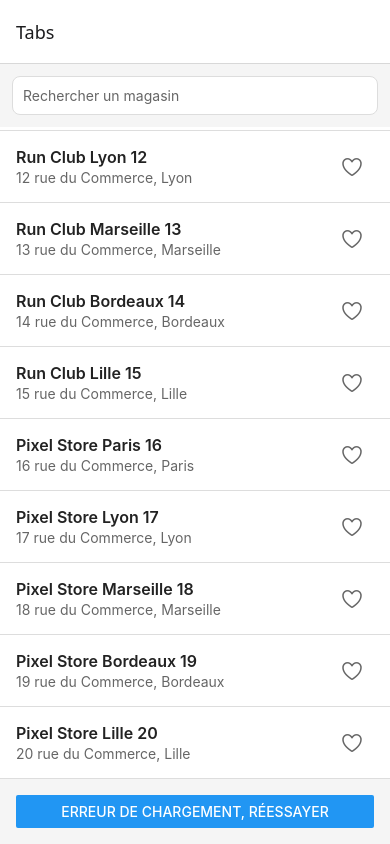
Test: StoreListScreen › propose de réessayer si la page suivante échoue
The image size is (390, 844).
(page scrolled)
Step 1. Click the button "Erreur de chargement, réessayer" → [195, 812], box x1=16 y1=795 x2=374 y2=828
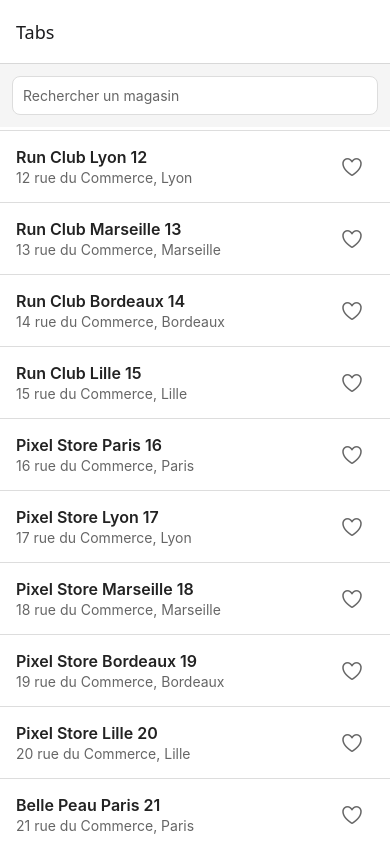
expect the button "Erreur de chargement, réessayer" is gone: met
